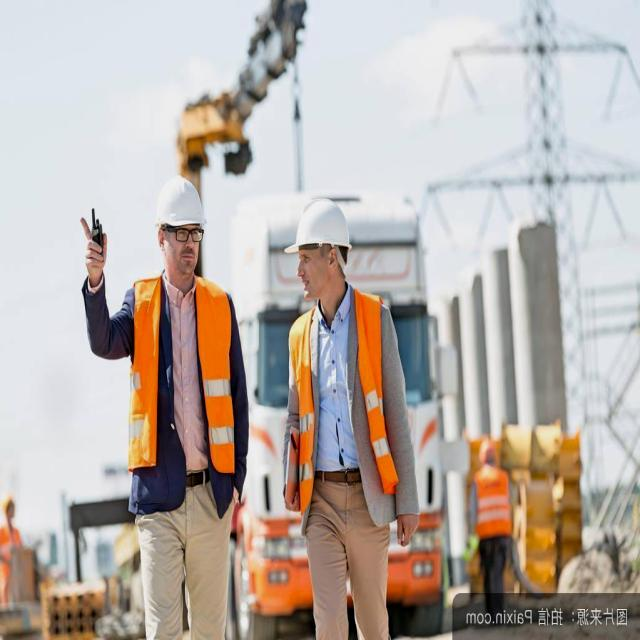face_nomask: (157, 224, 204, 275), (296, 233, 328, 302)
glasses: (171, 222, 206, 246)
hand_noglove: (79, 223, 115, 288), (395, 505, 425, 560)
head_helmet: (284, 199, 352, 255), (154, 177, 208, 227)
person: (128, 178, 231, 640), (304, 199, 404, 640), (473, 440, 510, 602), (0, 497, 33, 629)
vest: (291, 294, 388, 515), (126, 281, 230, 472), (473, 469, 508, 538), (0, 530, 25, 565)
